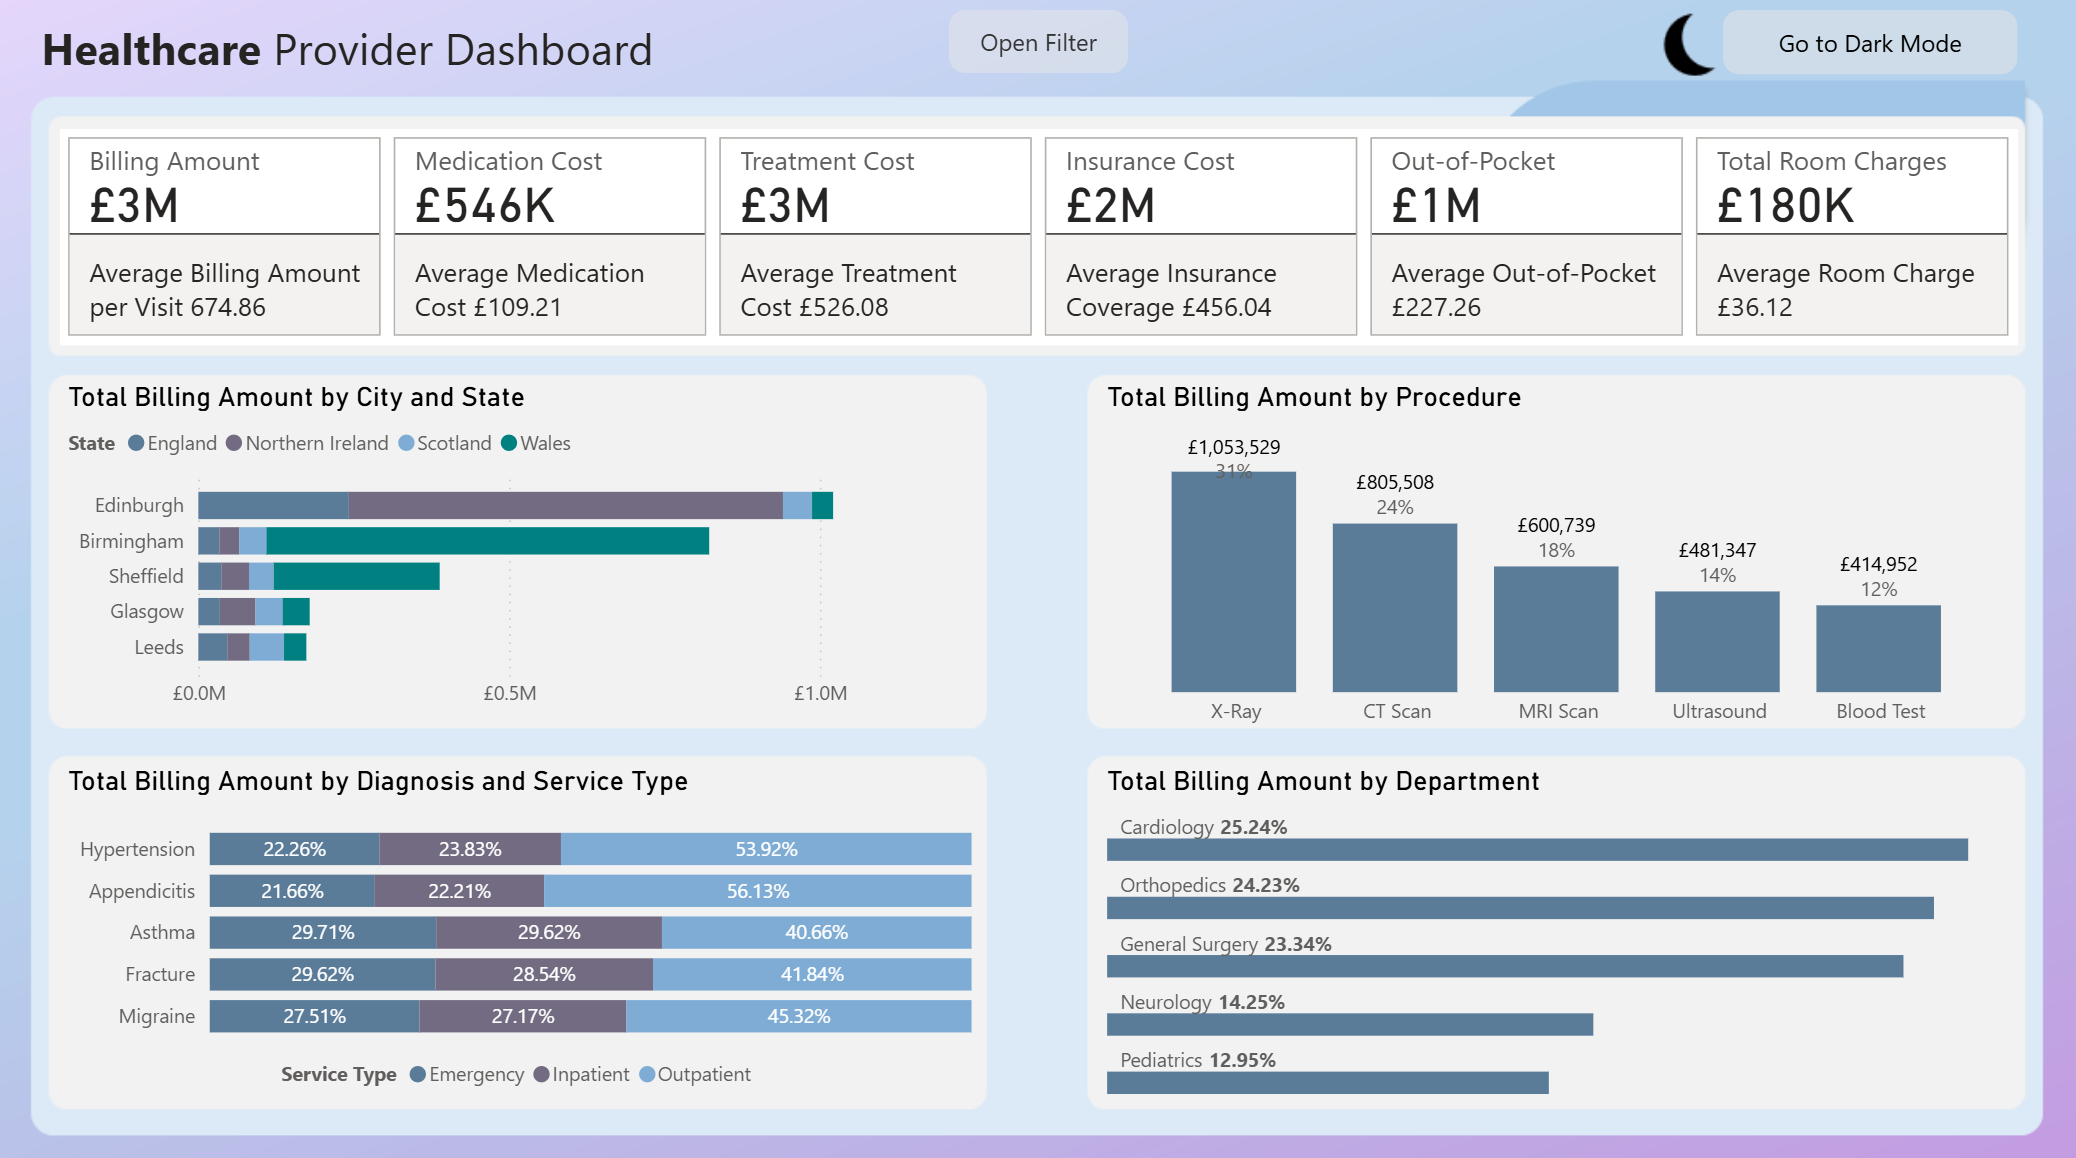

Layout of this report page (visuals, bound fields, positions):
{"tool":"powerbi","page":{"name":"Light Mode","canvas":[1280,720],"ordinal":1},"visuals":[{"type":"cardVisual","fields":{"Data":["DAX Calculation.Total Billing Amount","DAX Calculation.Total Medication Cost","DAX Calculation.Total Treatment Cost","DAX Calculation.Total Insurance Covered","DAX Calculation.Out-of-Pocket","DAX Calculation.Total Room Charges"]},"box":[39.3,83.5,1202.9,132.7],"z":0},{"type":"barChart","fields":{"Category":["cities.City"],"Y":["DAX Calculation.Total Billing Amount"],"Series":["cities.State"]},"box":[39.3,237.7,565.2,210.7],"z":1000},{"type":"columnChart","fields":{"Category":["procedures.Procedure"],"Y":["DAX Calculation.Total Billing Amount"]},"box":[677.6,237.7,564.6,221.8],"z":2000},{"type":"hundredPercentStackedBarChart","fields":{"Y":["DAX Calculation.Total Billing Amount"],"Category":["diagnoses.Diagnosis"],"Series":["visits.Service Type"]},"box":[39.3,473.7,565.2,208.9],"z":3000},{"type":"clusteredBarChart","title":"Total Billing Amount by Department","fields":{"Category":["departments.Department"],"Y":["DAX Calculation.Blank Measure","DAX Calculation.Total Billing Amount"]},"box":[677.6,473.7,564.6,208.9],"z":4000},{"type":"textbox","box":[22.7,10.4,435.6,53.4],"z":5000},{"type":"actionButton","title":"Go to Light Mode","box":[1061.1,10.6,180.9,39.5],"z":6000},{"type":"actionButton","title":"Open Filter","box":[585.6,10.4,110,38.8],"z":9000,"group":"g1"},{"type":"group","id":"g1","title":"Slicer Buttons","box":[585.6,10.4,109.5,39.5],"z":9001}]}

Visuals, with their boxes in screenshot pixels (x1, y1, x2, y2), scaled from the page's 1280x720 canvas onto the 2076x1158 screenshot:
cardVisual - DAX Calculation.Total Billing Amount x DAX Calculation.Total Medication Cost: bbox=(64, 134, 2015, 348)
barChart - cities.City x DAX Calculation.Total Billing Amount: bbox=(64, 382, 980, 721)
columnChart - procedures.Procedure x DAX Calculation.Total Billing Amount: bbox=(1099, 382, 2015, 739)
hundredPercentStackedBarChart - DAX Calculation.Total Billing Amount x diagnoses.Diagnosis: bbox=(64, 762, 980, 1098)
"Total Billing Amount by Department" clusteredBarChart: bbox=(1099, 762, 2015, 1098)
textbox: bbox=(37, 17, 743, 103)
"Go to Light Mode" actionButton: bbox=(1721, 17, 2014, 81)
"Open Filter" actionButton: bbox=(950, 17, 1128, 79)
"Slicer Buttons" group: bbox=(950, 17, 1127, 80)
